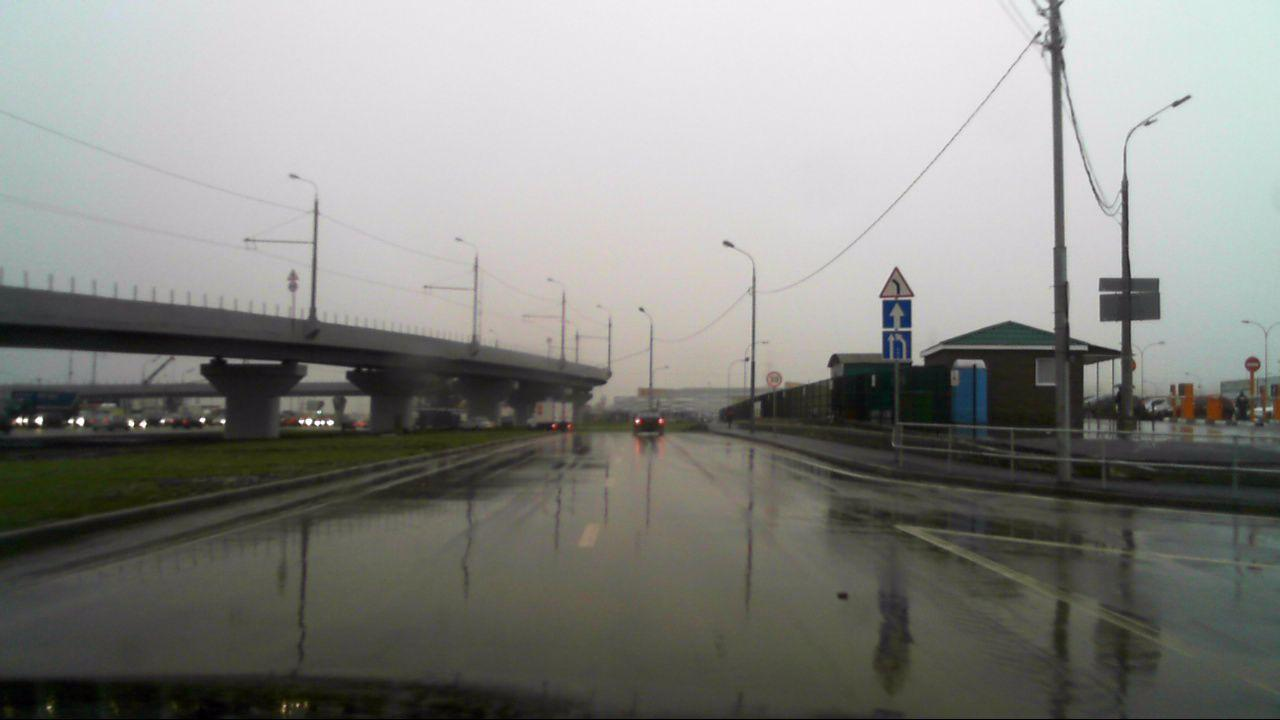1_11_2: (879, 266, 913, 298)
3_1: (1244, 356, 1262, 372)
5_15_5: (882, 332, 911, 359)
5_5: (882, 299, 913, 329)
